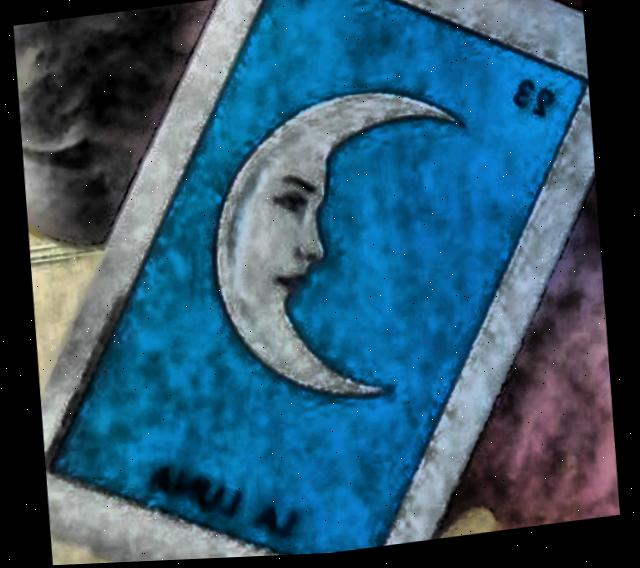La Luna: (50, 0, 584, 558)
